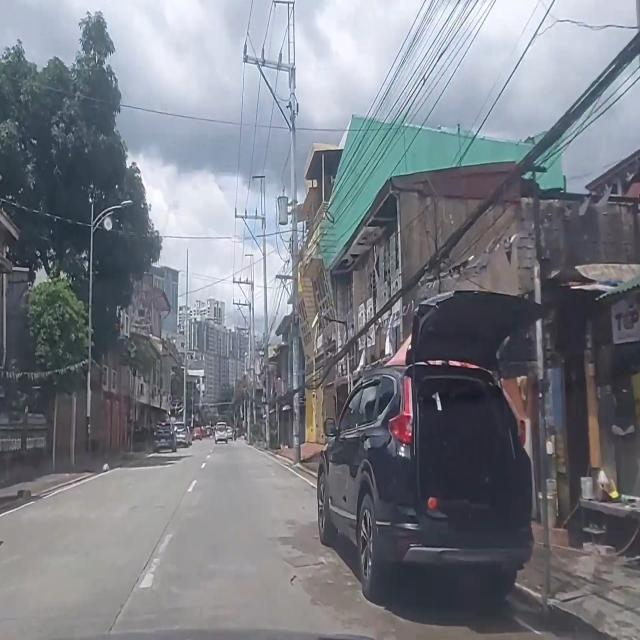car: (317, 290, 550, 610), (154, 418, 178, 454), (173, 422, 188, 448), (214, 421, 228, 444)
